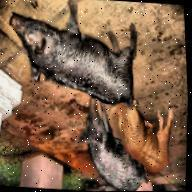boar: (0, 6, 152, 107), (68, 97, 154, 191)
